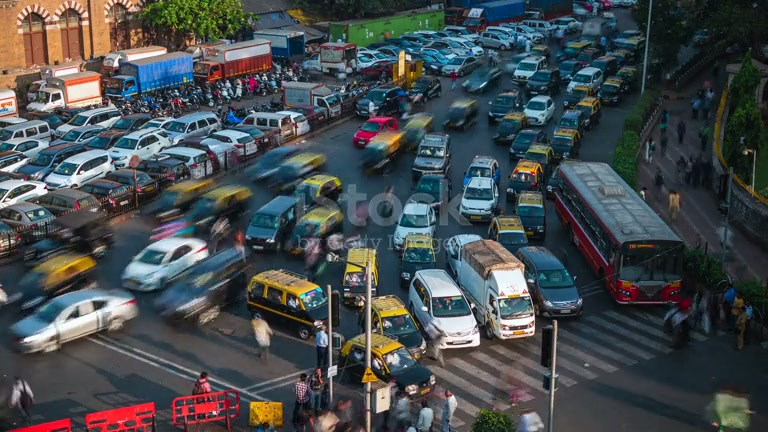bus: (550, 160, 687, 307), (443, 233, 537, 340), (459, 154, 501, 224)
car: (7, 287, 139, 355), (245, 267, 332, 341), (335, 332, 435, 393), (408, 268, 481, 349), (120, 234, 210, 293), (514, 245, 584, 320), (368, 294, 429, 360), (247, 145, 327, 194), (245, 193, 302, 254), (39, 148, 114, 190), (459, 155, 501, 224), (0, 203, 63, 242), (391, 200, 438, 252), (409, 173, 450, 218), (485, 215, 530, 253)
pedestrian: (250, 311, 273, 364), (192, 372, 212, 394)
